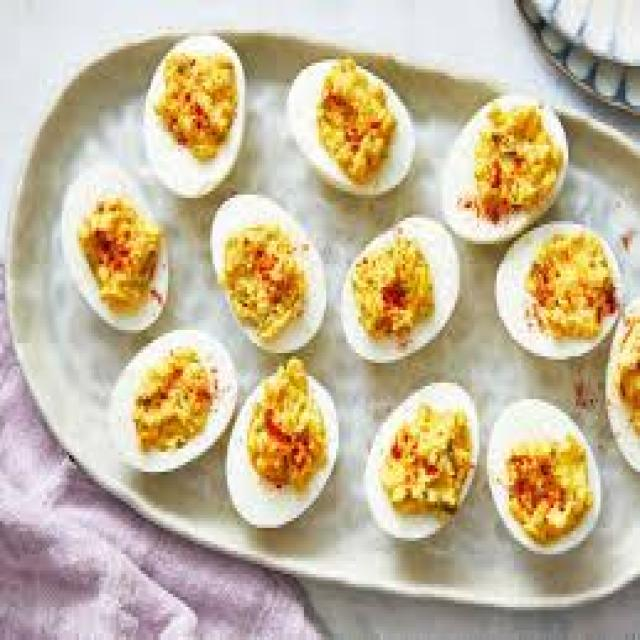boiled egg: (52, 20, 640, 600)
